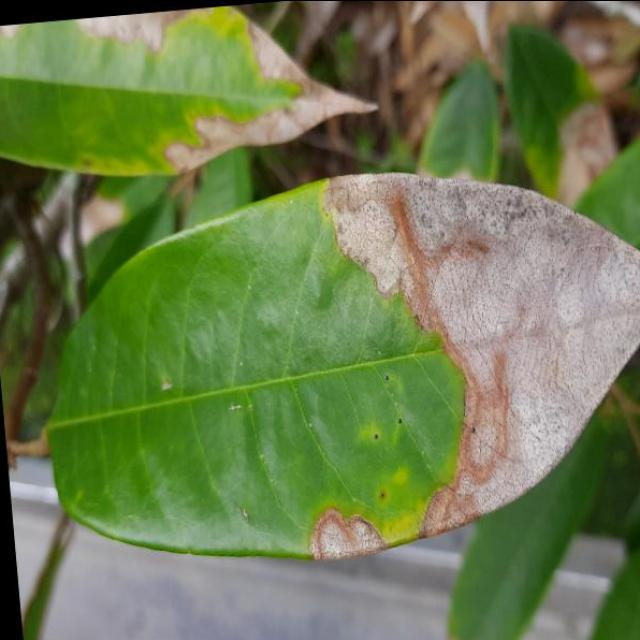Leaf Blight: (6, 139, 640, 582)
